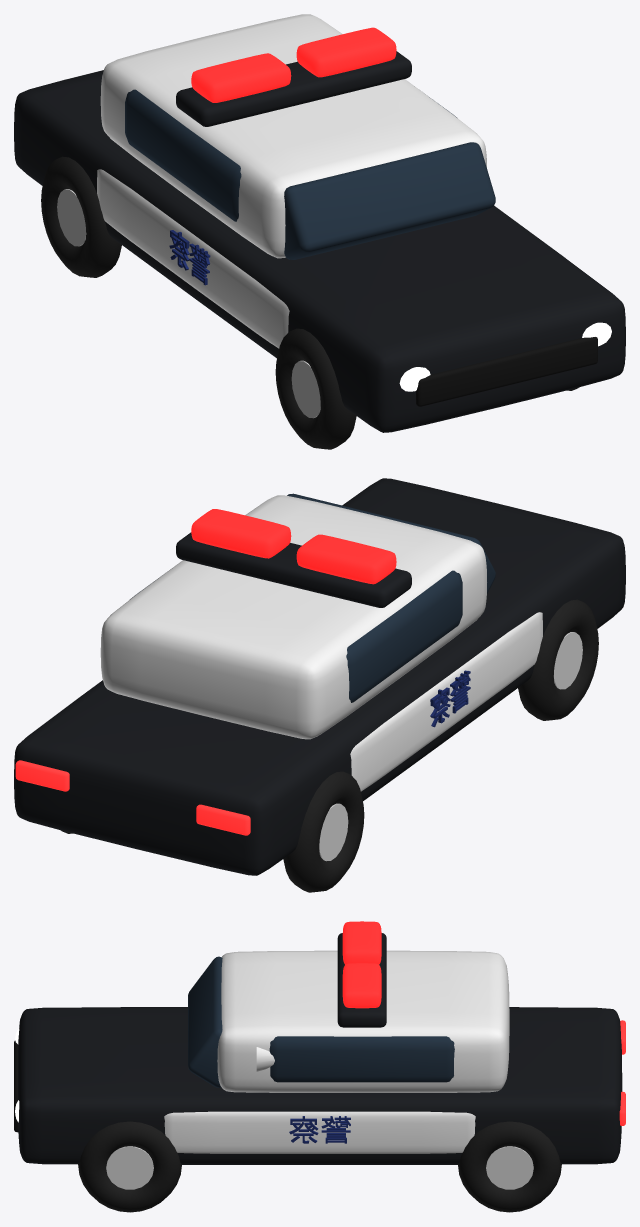
The model's file is police.glb.
3 renders of one model, top to bottom at view 1: azimuth 30°, elevation 25°; view 2: azimuth 150°, elevation 25°; view 3: azimuth 270°, elevation 25°, orthographic. The views are drawn at different scales.
Parts seen in each view (by area): view 1: police_body, police_light_mesh_l, police_light_mesh_r; view 2: police_body, police_light_mesh_r, police_light_mesh_l; view 3: police_body, police_light_mesh_l, police_light_mesh_r.
Part boxes in pixels (x1,y1,x2,y2): police_body: [14, 14, 625, 449]; police_light_mesh_l: [296, 27, 396, 77]; police_light_mesh_r: [191, 53, 291, 102]; police_body: [14, 478, 625, 892]; police_light_mesh_r: [296, 534, 396, 584]; police_light_mesh_l: [191, 509, 291, 558]; police_body: [14, 933, 625, 1212]; police_light_mesh_l: [342, 963, 381, 1008]; police_light_mesh_r: [342, 921, 381, 964].
Size of the model in its own units: 1.81 by 1.63 by 4.35.
